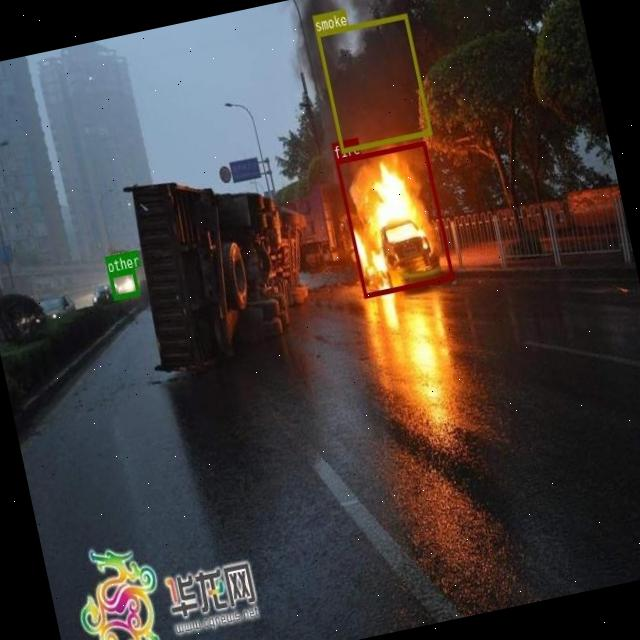fire: (334, 140, 454, 298)
smoke: (314, 13, 430, 152)
